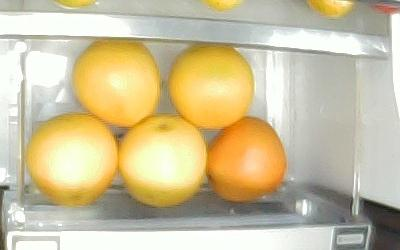grapefruit: (25, 111, 118, 206), (117, 113, 208, 207), (70, 38, 162, 127), (166, 41, 254, 130), (204, 114, 287, 202)
